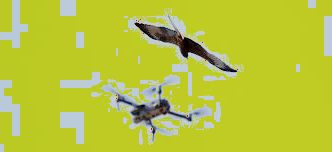Bird: (134, 14, 237, 75)
Drone: (98, 75, 212, 144)
